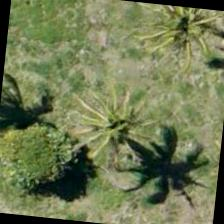Kelapa_Sawit: (78, 90, 176, 189), (132, 2, 223, 71)
